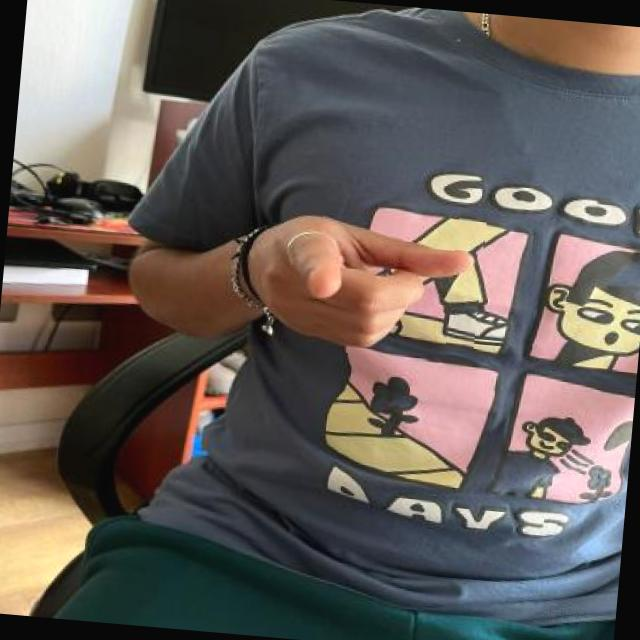X: (244, 193, 487, 364)
